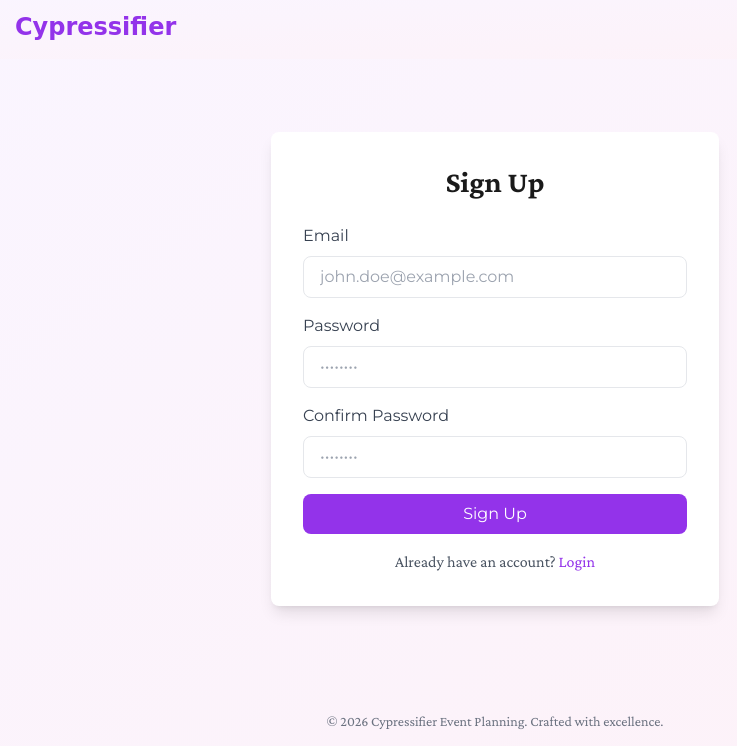
Test: User Experience Flow › User Authentication › should error with no email
expect the field with test id "signup-email-input" is shown: met, box [303,256,687,298]
expect the password field with test id "signup-confirm-password-input" is shown: met, box [303,436,687,478]
Type "user123" into the password field with test id "signup-password-input". click: point(495, 367)
box: [303,346,687,388]
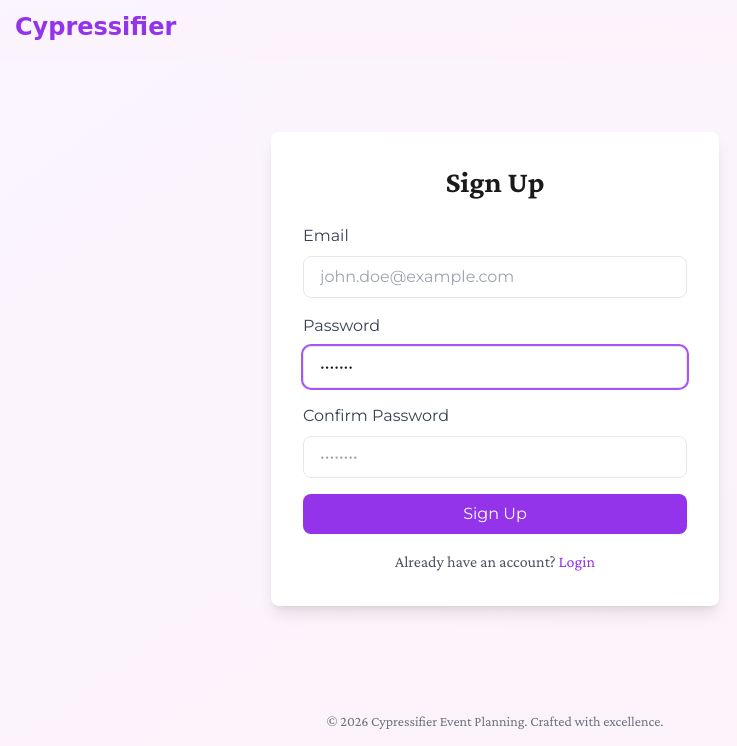
Type "user123" into the password field with test id "signup-confirm-password-input". click: point(495, 457)
box: [303,436,687,478]
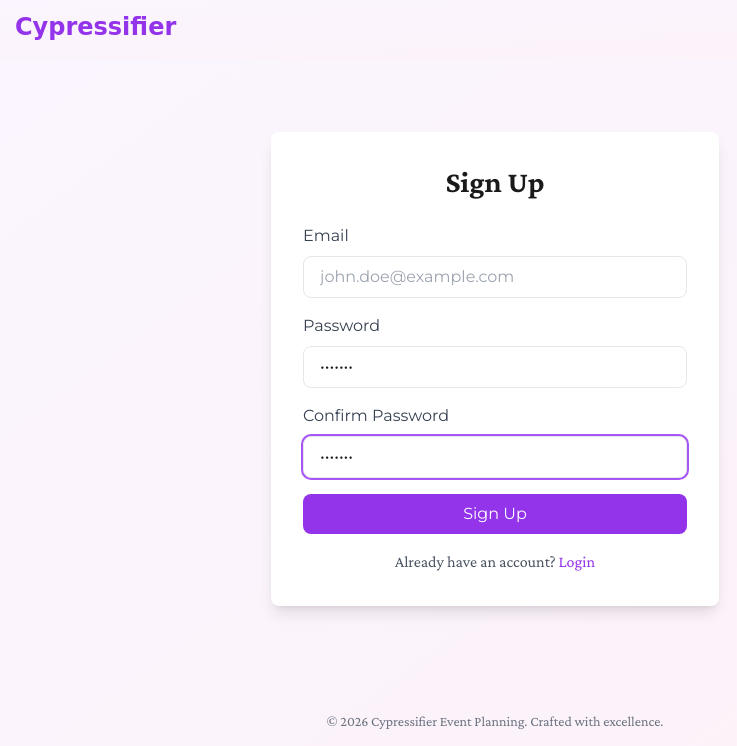
Submit the form, box [303,224,687,534]
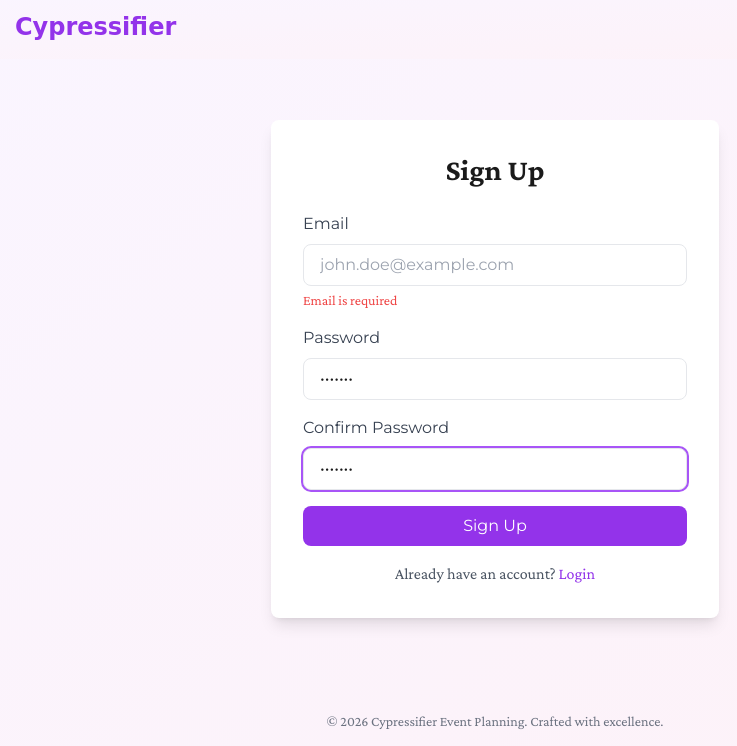
expect the text with test id "signup-email-error" reads "Email is required": met, box [303,292,397,308]
